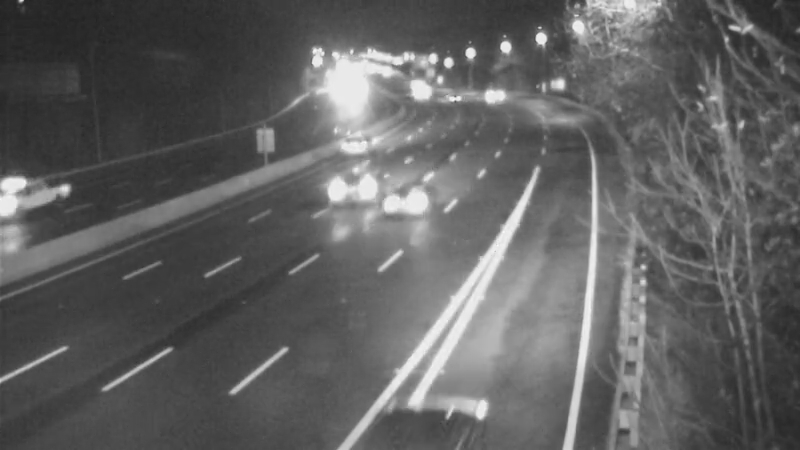vehicle: (302, 150, 382, 230), (378, 160, 458, 240), (1, 155, 66, 235), (464, 68, 514, 118), (400, 68, 450, 118), (425, 74, 475, 124), (331, 114, 381, 164)
